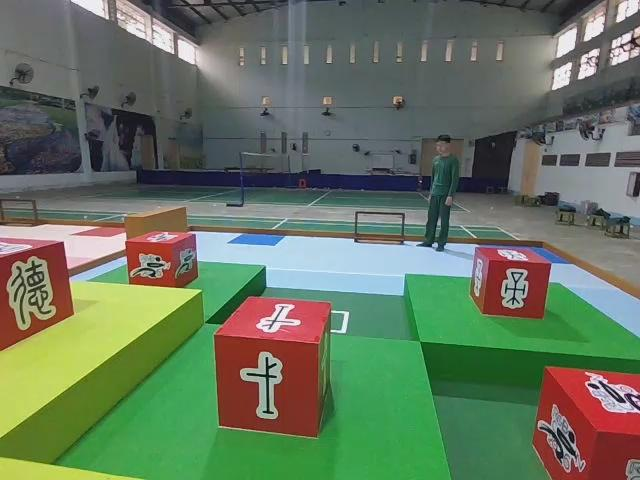R1: (530, 363, 640, 479), (124, 229, 200, 290)
R2 Fake: (0, 234, 75, 352)
R2 Real: (211, 293, 331, 442), (466, 244, 553, 324)
